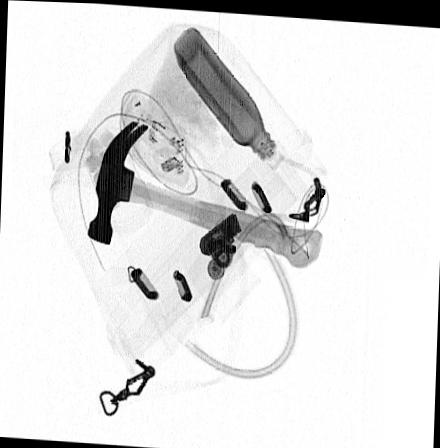Hammer: (86, 118, 322, 267)
